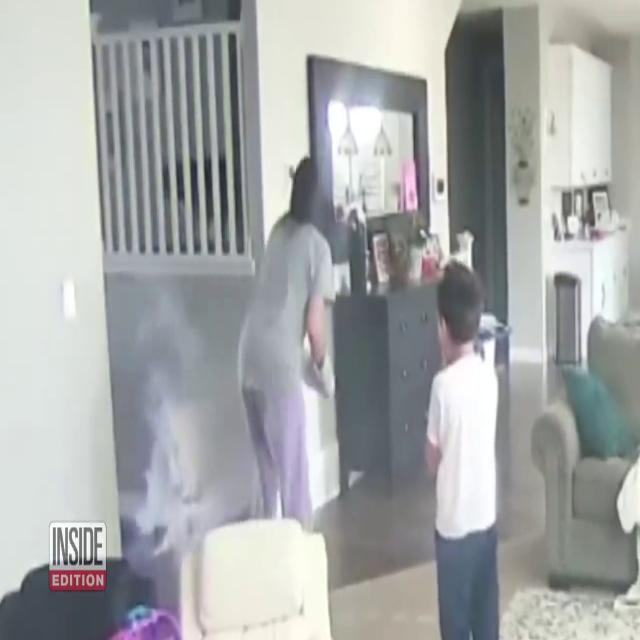Smoke: (116, 275, 252, 624)
